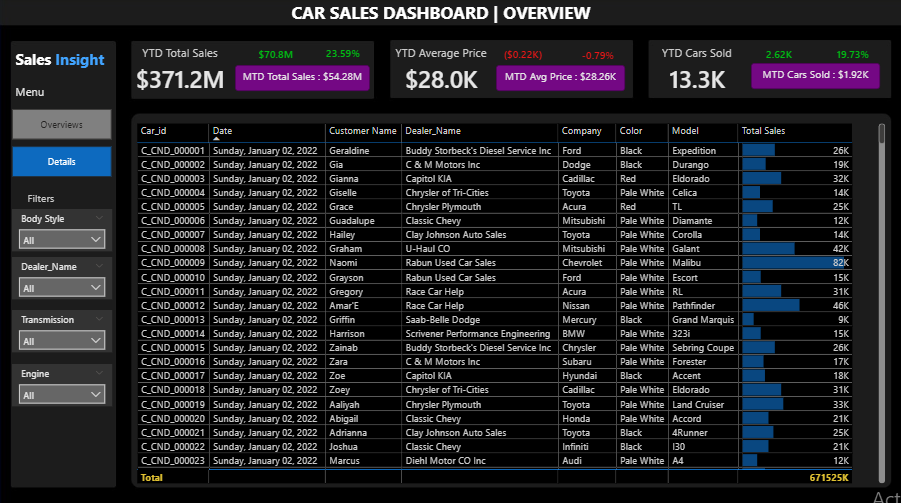

The page's visual inventory and layout, read from the dashboard file:
{"tool":"powerbi","page":{"name":"Details","canvas":[1280,720],"ordinal":1},"visuals":[{"type":"card","title":"YTD Total Sales","fields":{"Values":["car_data.YTD Total Sales"]},"box":[178.6,68,155.9,75.1],"z":0},{"type":"card","fields":{"Values":["car_data.Sales Difference"]},"box":[354.3,68,76.5,25.5],"z":1000},{"type":"card","fields":{"Values":["car_data.YOY Sales Growth"]},"box":[449.3,68,76.5,28.3],"z":2000},{"type":"card","fields":{"Values":["car_data.MTD KPI"]},"box":[334.5,96.4,191.3,36.9],"z":3000},{"type":"card","title":"YTD Average Price","fields":{"Values":["car_data.YTD Average Price"]},"box":[548.5,68,155.9,75.1],"z":4000},{"type":"card","fields":{"Values":["car_data.Average Price Difference"]},"box":[704.4,68,76.5,25.5],"z":5000},{"type":"card","fields":{"Values":["car_data.YOY Avg Price Growth"]},"box":[810.7,69.4,76.5,25.5],"z":6000},{"type":"card","fields":{"Values":["car_data.MTD Average KPI"]},"box":[704.4,96.4,182.8,36.9],"z":7000},{"type":"card","title":"YTD Cars Sold","fields":{"Values":["car_data.YTD Cars Sold"]},"box":[911.3,68,155.9,75.1],"z":8000},{"type":"card","fields":{"Values":["car_data.Cars Sold Difference"]},"box":[1067.2,68,76.5,25.5],"z":9000},{"type":"card","fields":{"Values":["car_data.YOY Cars Sold Growth"]},"box":[1172.1,68,76.5,25.5],"z":10000},{"type":"card","fields":{"Values":["car_data.MTD Cars Sold KPI"]},"box":[1065.8,93.5,182.8,36.9],"z":11000},{"type":"textbox","box":[409.7,0,460.6,42.5],"z":12000},{"type":"slicer","fields":{"Values":["car_data.Body Style"]},"box":[18.4,300.5,141.7,59.5],"z":13000},{"type":"slicer","fields":{"Values":["car_data.Dealer_Name"]},"box":[18.4,368.5,141.7,59.5],"z":14000},{"type":"slicer","fields":{"Values":["car_data.Transmission"]},"box":[18.4,443.6,141.7,59.5],"z":15000},{"type":"slicer","fields":{"Values":["car_data.Engine"]},"box":[18.4,520.2,141.7,59.5],"z":16000},{"type":"textbox","box":[35.4,269.3,53.9,29.8],"z":17000},{"type":"tableEx","fields":{"Values":["car_data.Car_id","car_data.Date","car_data.Customer Name","car_data.Dealer_Name","car_data.Company","car_data.Color","car_data.Model","car_data.Total Sales"]},"box":[189.9,174.3,1071.5,520.2],"z":18000},{"type":"pageNavigator","box":[18.4,158.7,141.7,96.4],"z":19000},{"type":"textbox","box":[18.4,117.6,59.5,31.2],"z":20000},{"type":"textbox","box":[18.4,68,141.7,42.5],"z":21000}]}

Visuals, with their boxes on the page's 1280x720 design canvas (x1, y1, x2, y2). These are canvas units, not pixel positions in the 901x503 screenshot, which may show the page scaled, cropped or inside an application window:
"YTD Total Sales" card: bbox=(179, 68, 334, 143)
card - car_data.Sales Difference: bbox=(354, 68, 431, 94)
card - car_data.YOY Sales Growth: bbox=(449, 68, 526, 96)
card - car_data.MTD KPI: bbox=(334, 96, 526, 133)
"YTD Average Price" card: bbox=(548, 68, 704, 143)
card - car_data.Average Price Difference: bbox=(704, 68, 781, 94)
card - car_data.YOY Avg Price Growth: bbox=(811, 69, 887, 95)
card - car_data.MTD Average KPI: bbox=(704, 96, 887, 133)
"YTD Cars Sold" card: bbox=(911, 68, 1067, 143)
card - car_data.Cars Sold Difference: bbox=(1067, 68, 1144, 94)
card - car_data.YOY Cars Sold Growth: bbox=(1172, 68, 1249, 94)
card - car_data.MTD Cars Sold KPI: bbox=(1066, 94, 1249, 130)
textbox: bbox=(410, 0, 870, 42)
slicer - car_data.Body Style: bbox=(18, 300, 160, 360)
slicer - car_data.Dealer_Name: bbox=(18, 368, 160, 428)
slicer - car_data.Transmission: bbox=(18, 444, 160, 503)
slicer - car_data.Engine: bbox=(18, 520, 160, 580)
textbox: bbox=(35, 269, 89, 299)
tableEx - car_data.Car_id x car_data.Date: bbox=(190, 174, 1261, 694)
pageNavigator: bbox=(18, 159, 160, 255)
textbox: bbox=(18, 118, 78, 149)
textbox: bbox=(18, 68, 160, 110)
